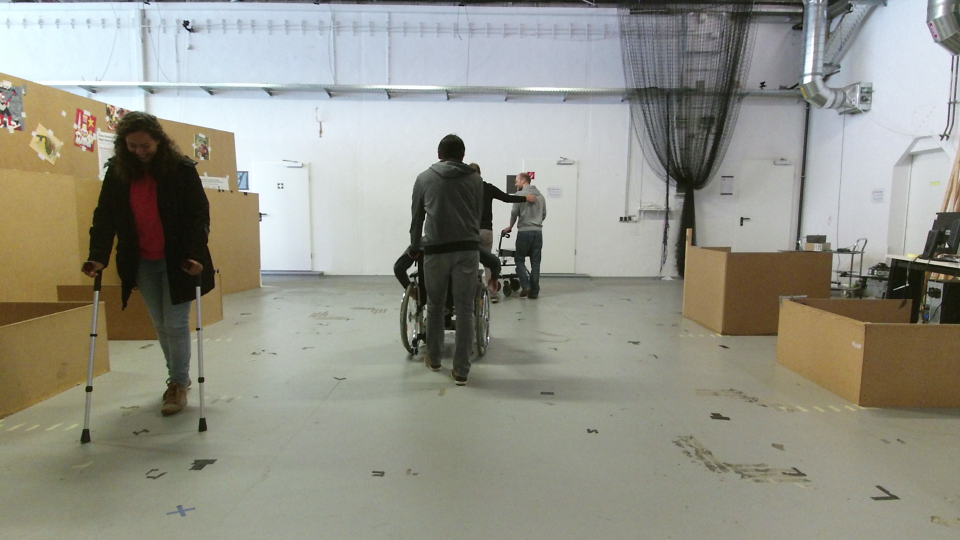crutches: (63, 104, 224, 455)
